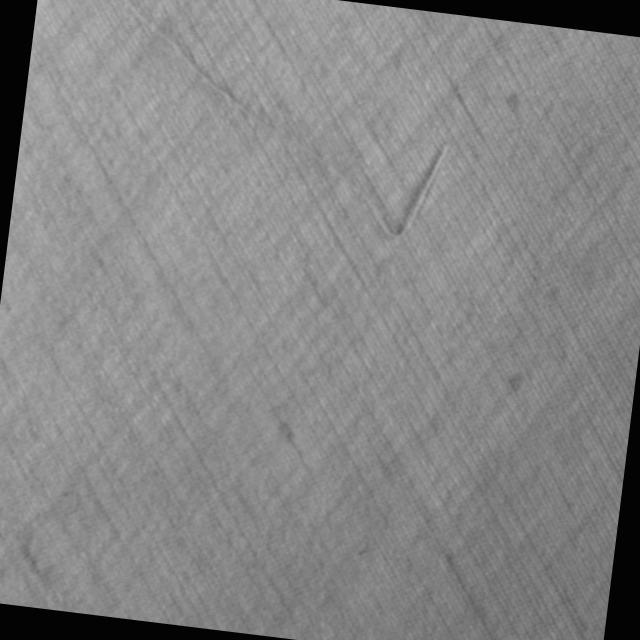objects: (56, 0, 466, 248)
